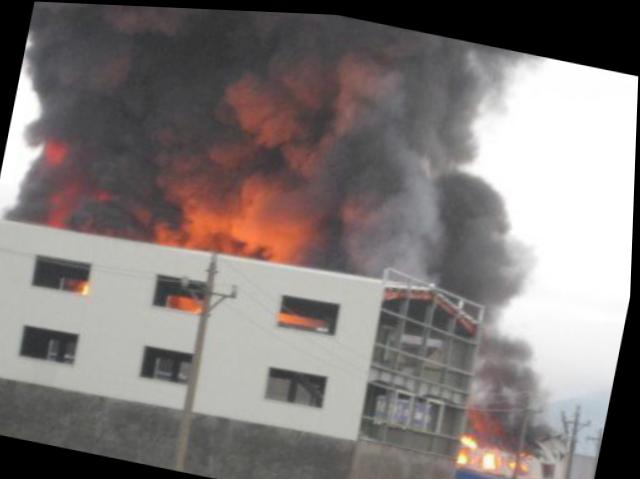fire: (485, 443, 507, 465), (466, 427, 486, 444), (461, 441, 477, 460), (77, 276, 94, 293)
smoke: (13, 1, 559, 205), (331, 170, 553, 301), (0, 106, 176, 252), (157, 137, 343, 264), (465, 297, 590, 449)
